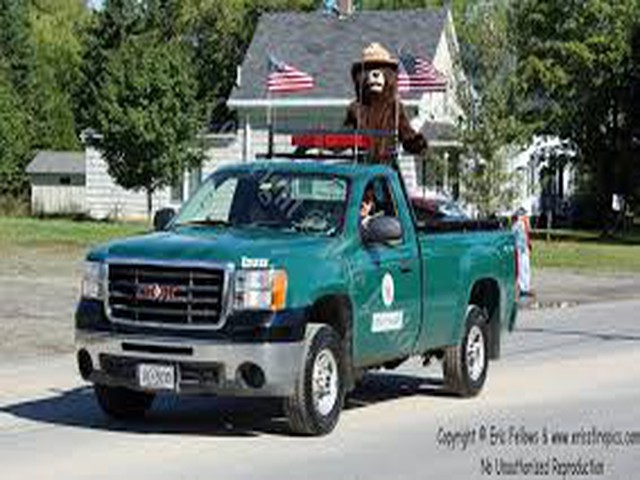Vehicle: (69, 151, 519, 436)
